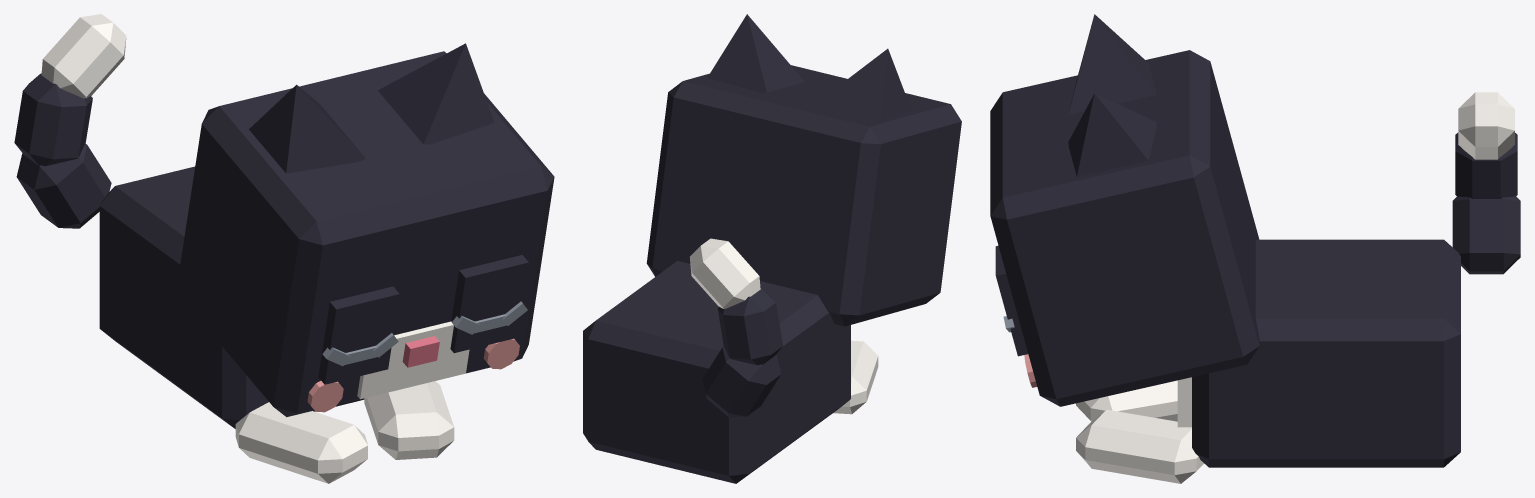
Rendered from CleanACat_Cat_Tux_Loaf_Lite.fbx.
The picture shows the model from 3 angles, left to right: view 1: azimuth 30°, elevation 25°; view 2: azimuth 150°, elevation 25°; view 3: azimuth 270°, elevation 25°; orthographic projection. The views are drawn at different scales.
Parts seen in each view (by area): view 1: CleanACat_Cat_Tux_Loaf_Lite_Head, CleanACat_Cat_Tux_Loaf_Lite_Body, CleanACat_Cat_Tux_Loaf_Lite_Tail, CleanACat_Cat_Tux_Loaf_Lite_Paws, CleanACat_Cat_Tux_Loaf_Lite_EarL, CleanACat_Cat_Tux_Loaf_Lite_Eye2, CleanACat_Cat_Tux_Loaf_Lite_Eye1, CleanACat_Cat_Tux_Loaf_Lite_EarR; view 2: CleanACat_Cat_Tux_Loaf_Lite_Head, CleanACat_Cat_Tux_Loaf_Lite_Body, CleanACat_Cat_Tux_Loaf_Lite_Tail, CleanACat_Cat_Tux_Loaf_Lite_EarL, CleanACat_Cat_Tux_Loaf_Lite_EarR, CleanACat_Cat_Tux_Loaf_Lite_Paws; view 3: CleanACat_Cat_Tux_Loaf_Lite_Head, CleanACat_Cat_Tux_Loaf_Lite_Body, CleanACat_Cat_Tux_Loaf_Lite_Tail, CleanACat_Cat_Tux_Loaf_Lite_Paws, CleanACat_Cat_Tux_Loaf_Lite_EarL, CleanACat_Cat_Tux_Loaf_Lite_EarR, CleanACat_Cat_Tux_Loaf_Lite_Eye1.
Part boxes in pixels (left/top/right/bottom): CleanACat_Cat_Tux_Loaf_Lite_Head: left=176, top=51, right=554, bottom=417; CleanACat_Cat_Tux_Loaf_Lite_Body: left=99, top=166, right=364, bottom=428; CleanACat_Cat_Tux_Loaf_Lite_Tail: left=14, top=14, right=126, bottom=228; CleanACat_Cat_Tux_Loaf_Lite_Paws: left=235, top=381, right=454, bottom=483; CleanACat_Cat_Tux_Loaf_Lite_EarL: left=378, top=43, right=494, bottom=144; CleanACat_Cat_Tux_Loaf_Lite_Eye2: left=318, top=286, right=399, bottom=384; CleanACat_Cat_Tux_Loaf_Lite_Eye1: left=450, top=255, right=528, bottom=353; CleanACat_Cat_Tux_Loaf_Lite_EarR: left=249, top=84, right=365, bottom=173; CleanACat_Cat_Tux_Loaf_Lite_Head: left=646, top=65, right=961, bottom=326; CleanACat_Cat_Tux_Loaf_Lite_Body: left=583, top=261, right=850, bottom=483; CleanACat_Cat_Tux_Loaf_Lite_Tail: left=690, top=238, right=782, bottom=417; CleanACat_Cat_Tux_Loaf_Lite_EarL: left=707, top=14, right=804, bottom=92; CleanACat_Cat_Tux_Loaf_Lite_EarR: left=815, top=48, right=911, bottom=119; CleanACat_Cat_Tux_Loaf_Lite_Paws: left=833, top=340, right=878, bottom=414; CleanACat_Cat_Tux_Loaf_Lite_Head: left=990, top=50, right=1259, bottom=406; CleanACat_Cat_Tux_Loaf_Lite_Body: left=1177, top=239, right=1460, bottom=467; CleanACat_Cat_Tux_Loaf_Lite_Tail: left=1452, top=92, right=1520, bottom=274; CleanACat_Cat_Tux_Loaf_Lite_Paws: left=1076, top=380, right=1203, bottom=483; CleanACat_Cat_Tux_Loaf_Lite_EarL: left=1068, top=93, right=1156, bottom=176; CleanACat_Cat_Tux_Loaf_Lite_EarR: left=1068, top=14, right=1156, bottom=114; CleanACat_Cat_Tux_Loaf_Lite_Eye1: left=995, top=245, right=1028, bottom=356.
Bounding box in the file's own units: 1.11 × 1.52 × 1.87.
1 material, 1 textured.
